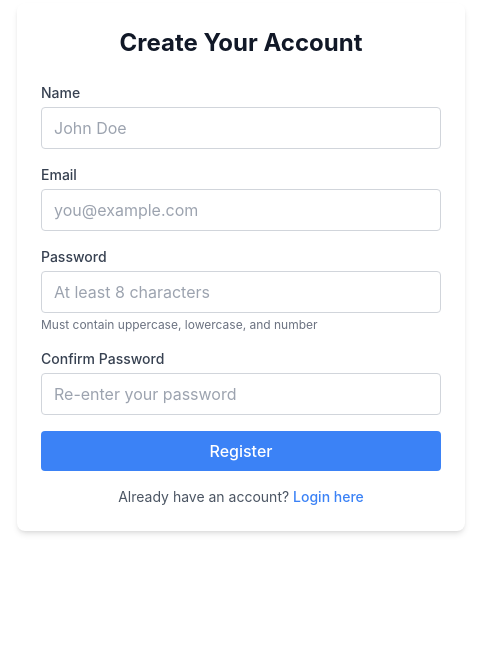
Scenario: RegisterForm › validates email format
Type "invalid-email" into the field labelled "Email" at (241, 210), box [41,189,441,231]
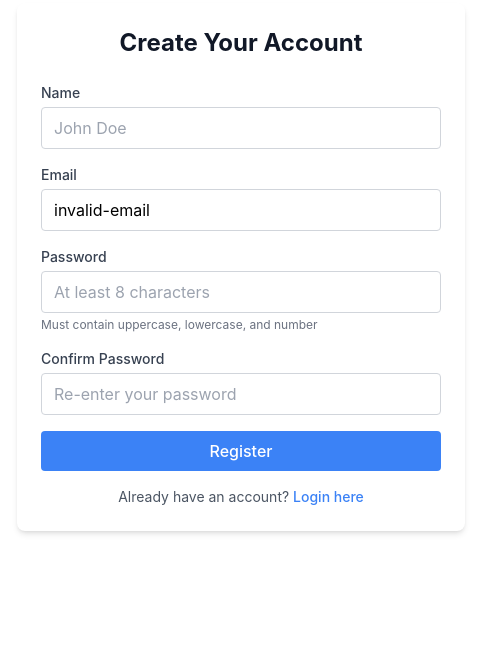
Click the button "Register" at (241, 451), box [41,431,441,471]
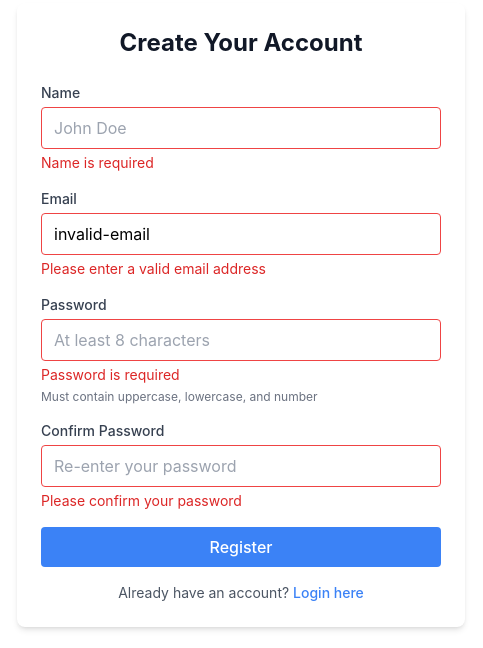
Now the text "Please enter a valid email address" is shown, box [41,260,266,277]
